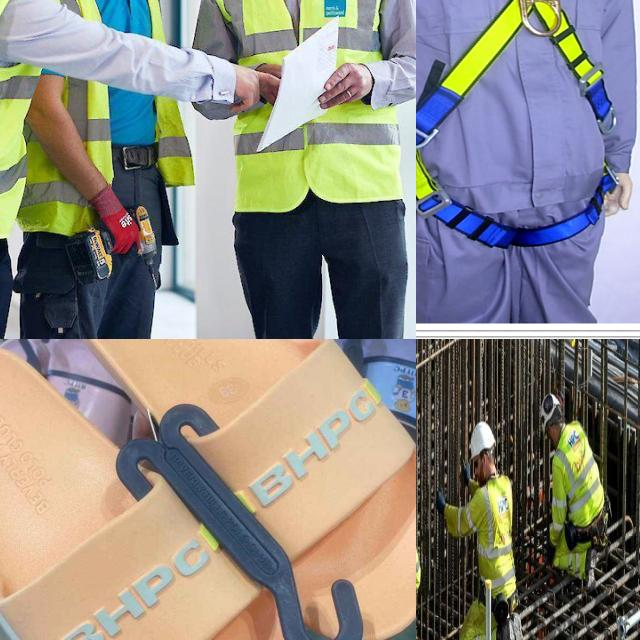Harness: (416, 0, 608, 248)
Sandals: (0, 339, 416, 640)
hand_glove: (81, 176, 152, 258)
hand_noglove: (231, 54, 284, 122), (315, 55, 373, 115)
head_helmet: (468, 417, 495, 459), (538, 392, 562, 432)
person: (207, 0, 416, 339), (33, 0, 187, 329), (435, 419, 525, 640), (0, 0, 53, 337), (542, 392, 612, 594), (416, 466, 453, 640)
shoes: (510, 609, 527, 640), (499, 617, 517, 640)
vest: (30, 0, 218, 270), (207, 0, 413, 209), (0, 0, 41, 249), (471, 477, 516, 594), (553, 420, 604, 521)
